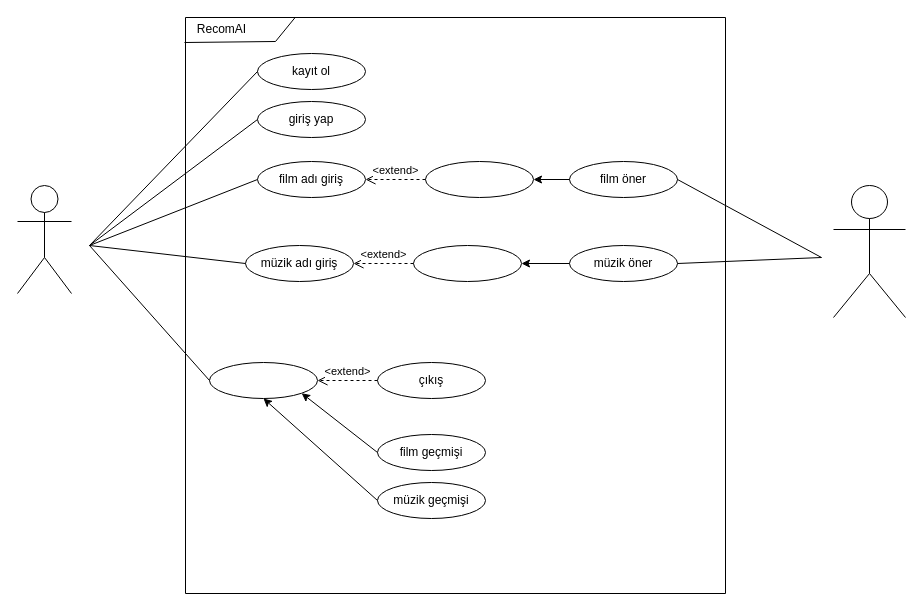
This 923x611 diagram has some shape labels left out. Each missing label, with the box of its shape:
Kullanıcı: (16, 184, 72, 294)
profili: (208, 362, 318, 398)
yapay zeka: (832, 184, 906, 318)
önerilen film listesi: (424, 160, 534, 198)
önerilen müzik listesi: (412, 244, 522, 282)
